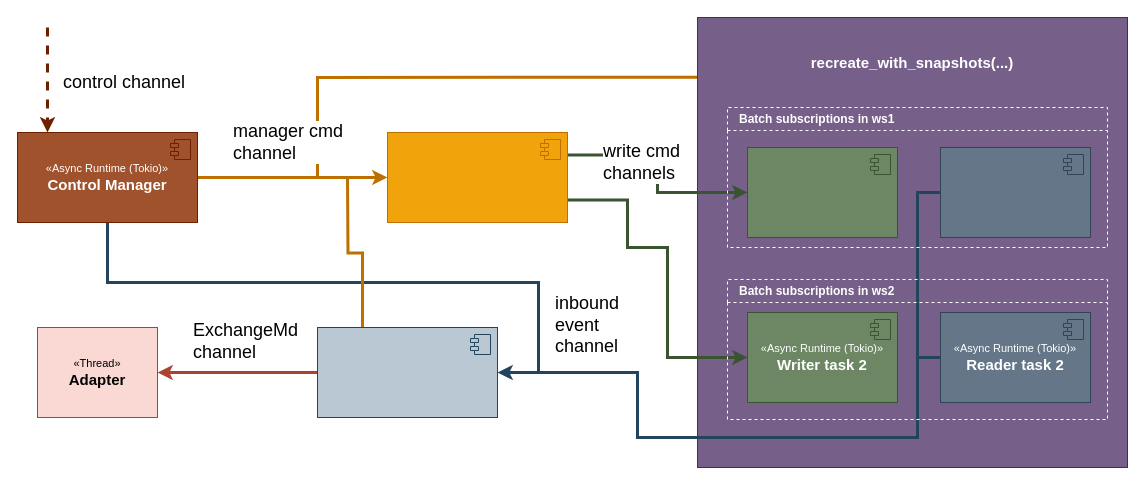
Image size: 1145x485. Some labels were removed from this diagram. The centre of each missing label's shape, as x and y in pixels:
"«Async Runtime (Tokio)» Connection Manager" belongs at (477,177).
"«Async Runtime (Tokio)» Reader task 1" belongs at (1015,192).
"«Async Runtime (Tokio)» Start" belongs at (407,372).
"«Async Runtime (Tokio)» Writer task 1" belongs at (822,192).
